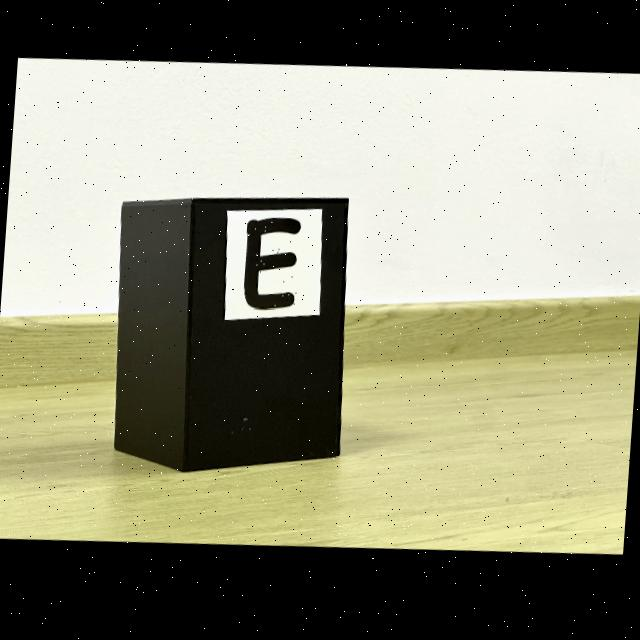E: (244, 221, 301, 311)
